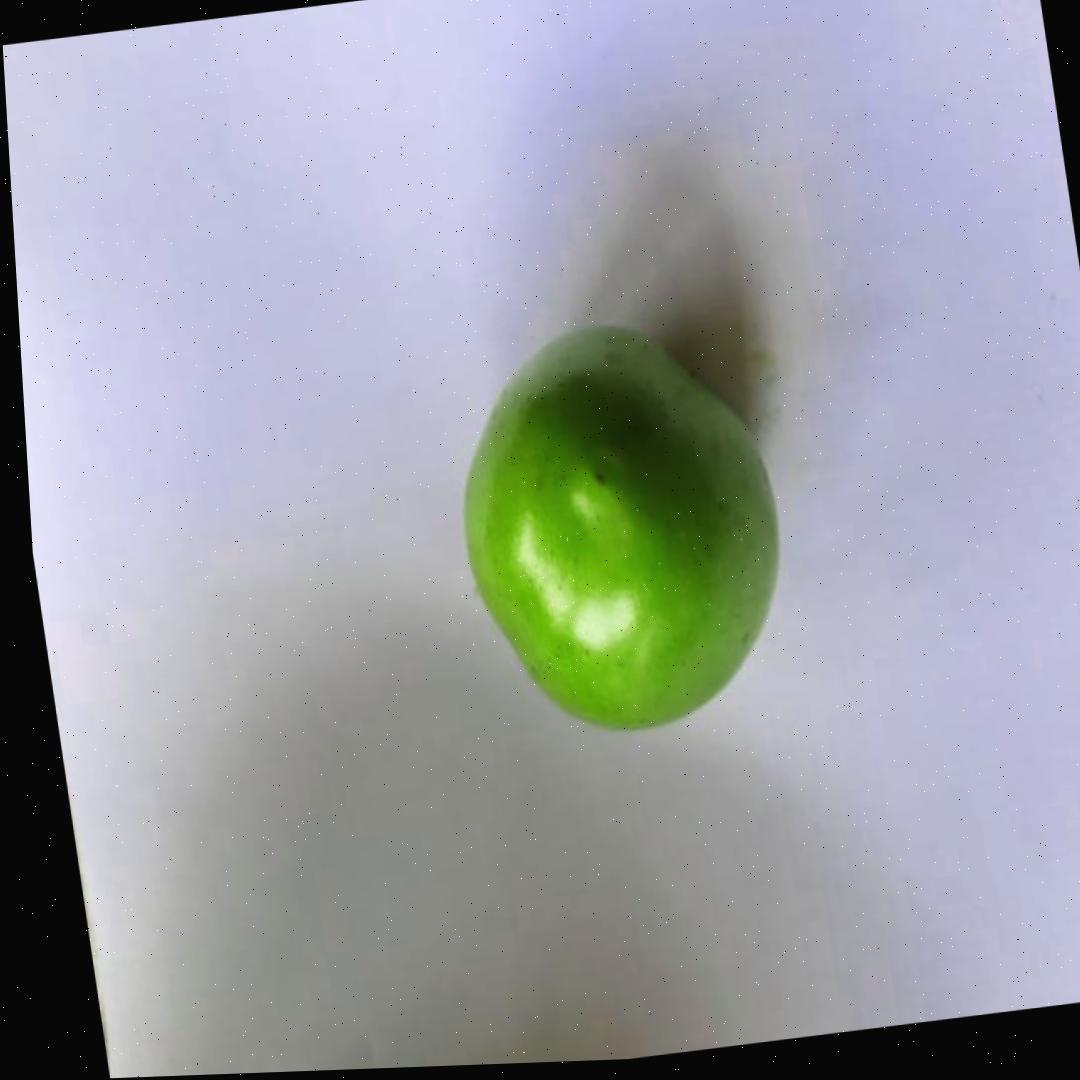mentah: (432, 305, 810, 755)
